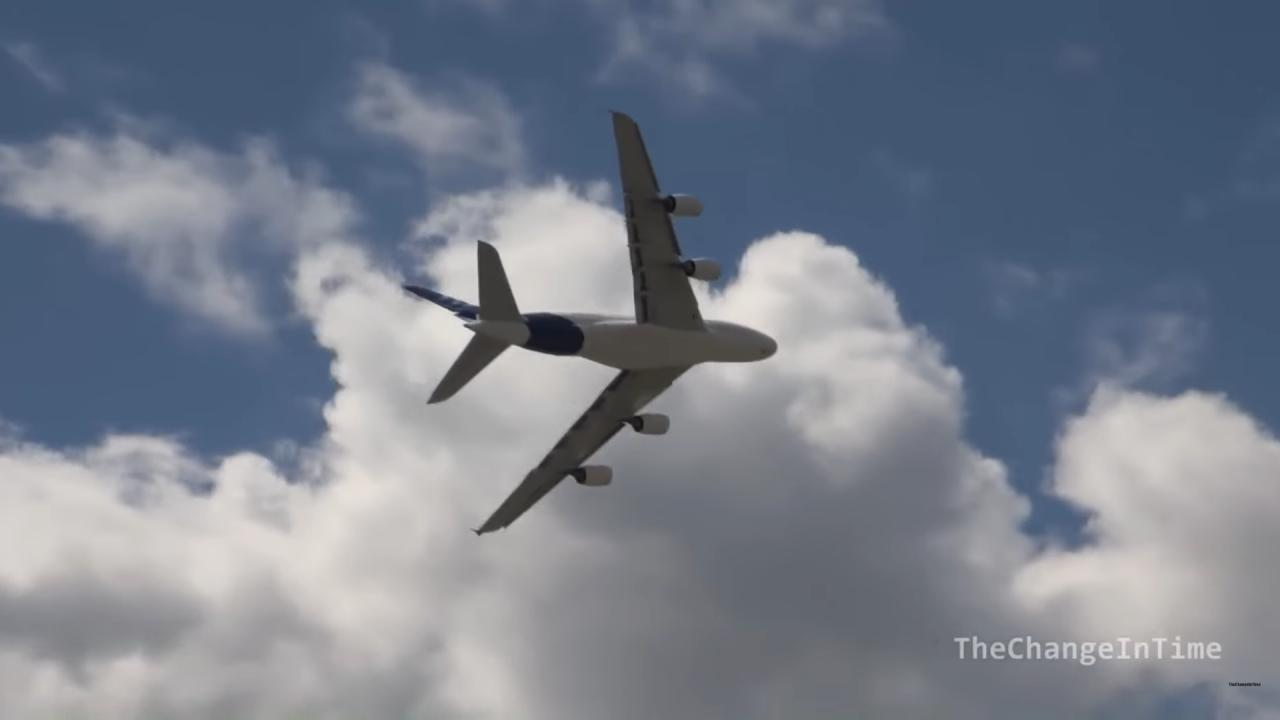Airplane: (396, 94, 790, 548)
